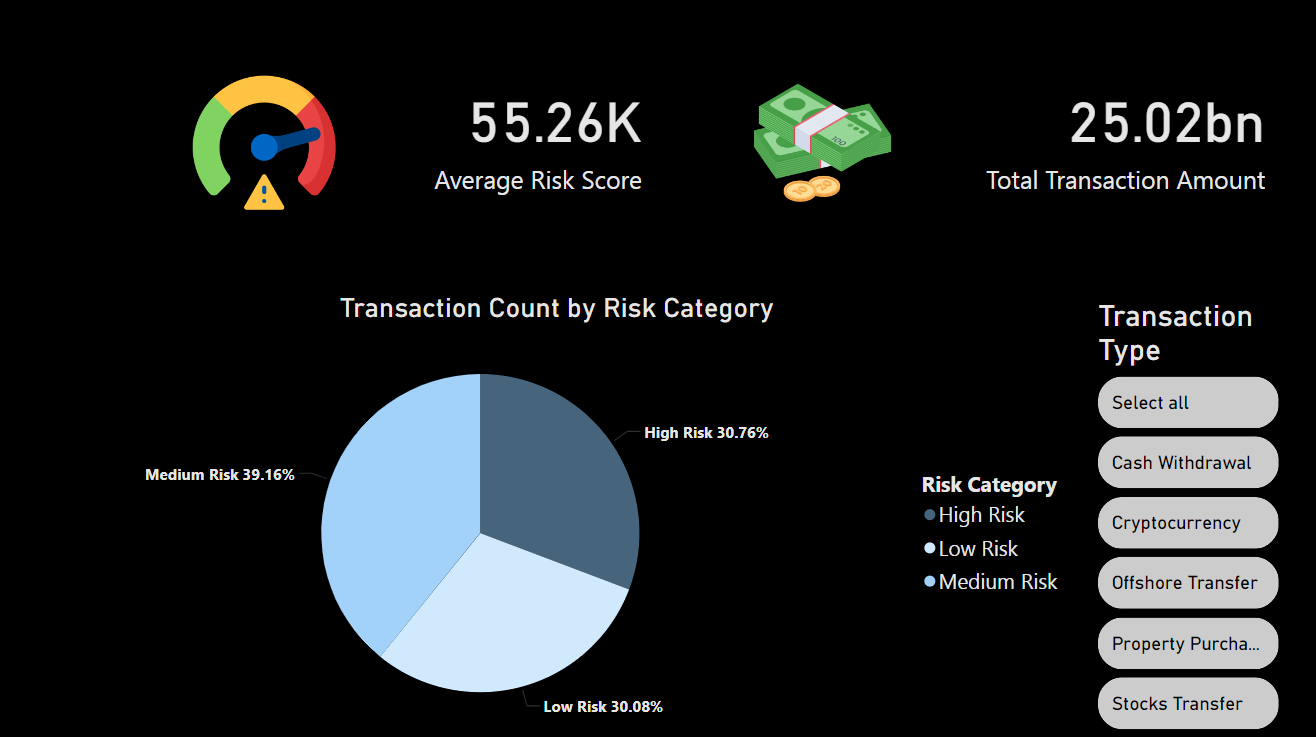

The page's visual inventory and layout, read from the dashboard file:
{"tool":"powerbi","page":{"name":"Transaction Risk Overview: Score, Volume, and Categories","canvas":[1280,720],"ordinal":2},"visuals":[{"type":"cardVisual","fields":{"Data":["Sum(Big_Black_Money_Dataset.Avg Risk Score)","Big_Black_Money_Dataset.Total Transaction Amount"]},"box":[39.3,0,1203.7,284.7],"z":0},{"type":"pieChart","title":"Transaction Count by Risk Category","fields":{"Category":["Big_Black_Money_Dataset.High-Risk Category"],"Y":["CountNonNull(Big_Black_Money_Dataset.Transaction ID)"]},"box":[39.3,284.7,1006.1,435.6],"z":1000},{"type":"advancedSlicerVisual","title":"Transaction Type","fields":{"Values":["Big_Black_Money_Dataset.Transaction Type"]},"box":[1058.9,290.8,184.1,423.3],"z":2000},{"type":"image","box":[658.9,68.7,278.5,147.2],"z":3000},{"type":"image","box":[95.7,68.7,330.1,147.2],"z":4000}]}

Visuals, with their boxes in screenshot pixels (x1, y1, x2, y2), scaled from the page's 1280x720 canvas onto the 1316x737 screenshot:
cardVisual - Sum(Big_Black_Money_Dataset.Avg Risk Score) x Big_Black_Money_Dataset.Total Transaction Amount: box=[40, 0, 1278, 291]
"Transaction Count by Risk Category" pieChart: box=[40, 291, 1075, 736]
"Transaction Type" advancedSlicerVisual: box=[1089, 298, 1278, 731]
image: box=[677, 70, 964, 221]
image: box=[98, 70, 438, 221]
